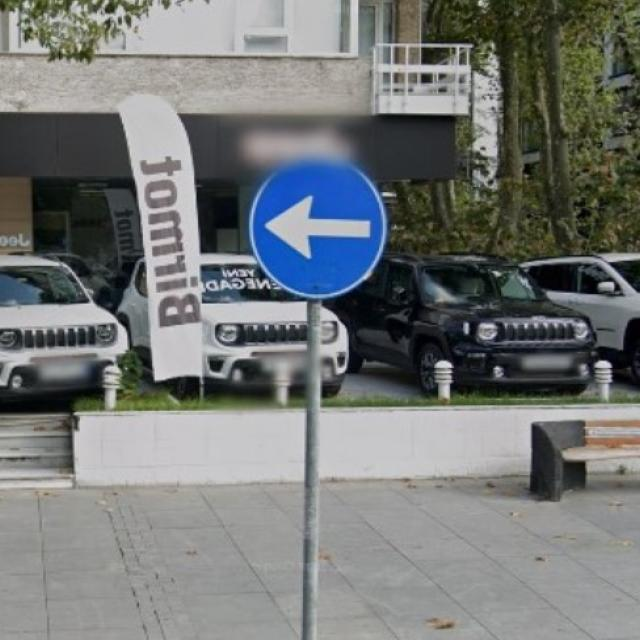Turn Left: (248, 153, 390, 297)
